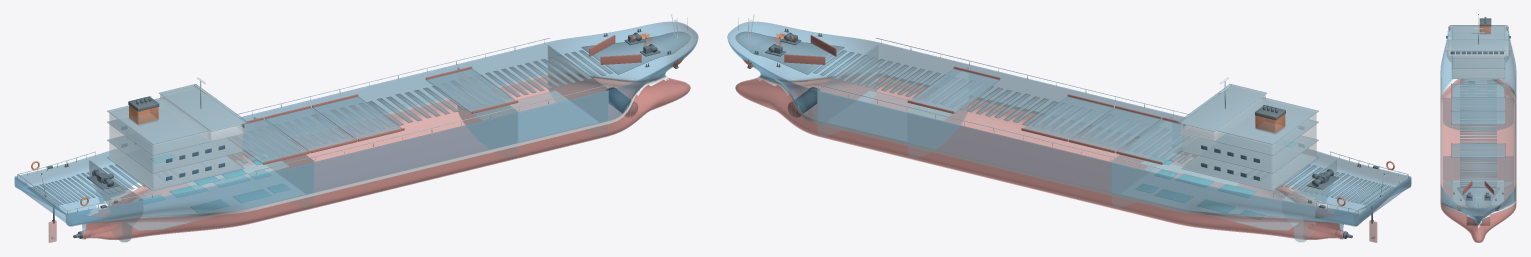
The model's file is blender-hull-V7.glb.
The picture shows the model from 3 angles, left to right: view 1: azimuth 30°, elevation 25°; view 2: azimuth 150°, elevation 25°; view 3: azimuth 270°, elevation 25°; orthographic projection. The views are drawn at different scales.
Visible parts, largest first — view 1: ShipHull, Accommodation_Block, EngineRoom_Conforming_TankTop, AuxRoom_Conforming_TankTop, Watertight_Bulkhead_4, House_Deck_4, Navigation_Bridge_Wings, House_Deck_1, CargoBay_Pad_4, CargoBay_Pad_2, CargoBay_Pad_3, House_Deck_2 (+12 smaller); view 2: ShipHull, Accommodation_Block, EngineRoom_Conforming_TankTop, AuxRoom_Conforming_TankTop, Watertight_Bulkhead_4, House_Deck_4, Navigation_Bridge_Wings, House_Deck_2, House_Deck_1, CargoBay_Pad_4, CargoBay_Pad_2, CargoBay_Pad_3 (+12 smaller); view 3: ShipHull, Accommodation_Block, Watertight_Bulkhead_3, Watertight_Bulkhead_4, House_Deck_4, Navigation_Bridge_Wings, CargoBay_Pad_4, CargoBay_Pad_2, CargoBay_Pad_1, CargoBay_Pad_3, Bridge_Roof_Visor, Watertight_Bulkhead_2 (+13 smaller).
Part boxes in pixels (<box>): ShipHull: <box>14,21,698,239</box>; Accommodation_Block: <box>109,99,242,189</box>; EngineRoom_Conforming_TankTop: <box>128,164,304,230</box>; AuxRoom_Conforming_TankTop: <box>474,90,598,141</box>; Watertight_Bulkhead_4: <box>547,45,608,135</box>; House_Deck_4: <box>107,97,242,144</box>; Navigation_Bridge_Wings: <box>160,86,245,141</box>; House_Deck_1: <box>107,153,244,191</box>; CargoBay_Pad_4: <box>426,68,515,113</box>; CargoBay_Pad_2: <box>265,107,354,153</box>; CargoBay_Pad_3: <box>312,96,403,141</box>; House_Deck_2: <box>107,136,244,173</box>; ShipHull: <box>727,21,1411,239</box>; Accommodation_Block: <box>1183,99,1316,189</box>; EngineRoom_Conforming_TankTop: <box>1121,164,1297,230</box>; AuxRoom_Conforming_TankTop: <box>827,90,951,141</box>; Watertight_Bulkhead_4: <box>817,45,878,135</box>; House_Deck_4: <box>1183,97,1318,144</box>; Navigation_Bridge_Wings: <box>1180,86,1265,141</box>; House_Deck_2: <box>1181,136,1318,173</box>; House_Deck_1: <box>1181,153,1318,191</box>; CargoBay_Pad_4: <box>910,68,999,113</box>; CargoBay_Pad_2: <box>1071,107,1160,153</box>; CargoBay_Pad_3: <box>1022,96,1113,141</box>; ShipHull: <box>1440,26,1516,242</box>; Accommodation_Block: <box>1452,26,1504,78</box>; Watertight_Bulkhead_3: <box>1443,156,1513,186</box>; Watertight_Bulkhead_4: <box>1443,182,1513,215</box>; House_Deck_4: <box>1451,25,1505,51</box>; Navigation_Bridge_Wings: <box>1448,40,1508,56</box>; CargoBay_Pad_4: <box>1451,143,1505,157</box>; CargoBay_Pad_2: <box>1451,97,1505,111</box>; CargoBay_Pad_1: <box>1451,84,1505,97</box>; CargoBay_Pad_3: <box>1451,111,1505,124</box>; Bridge_Roof_Visor: <box>1447,39,1509,50</box>; Watertight_Bulkhead_2: <box>1443,97,1513,130</box>.
Bounding box in the file's own units: 44.67 × 9.13 × 7.7.
